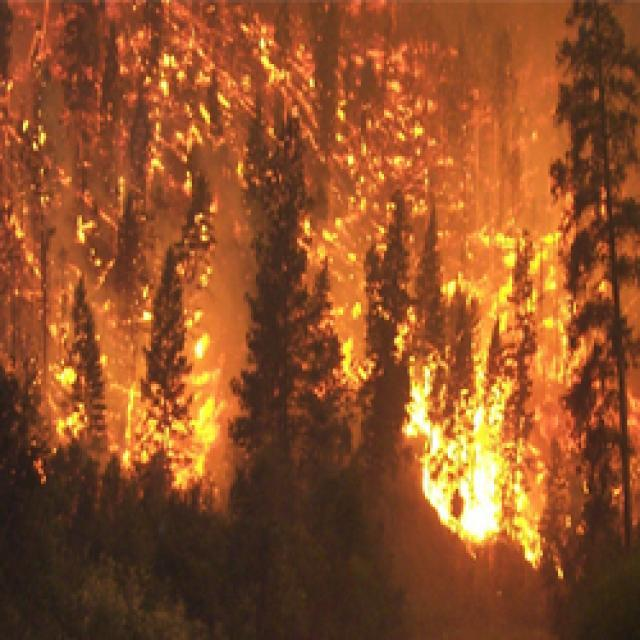Fire: (0, 0, 240, 546), (394, 194, 580, 575), (268, 6, 428, 406)
Smoke: (0, 0, 639, 256)
